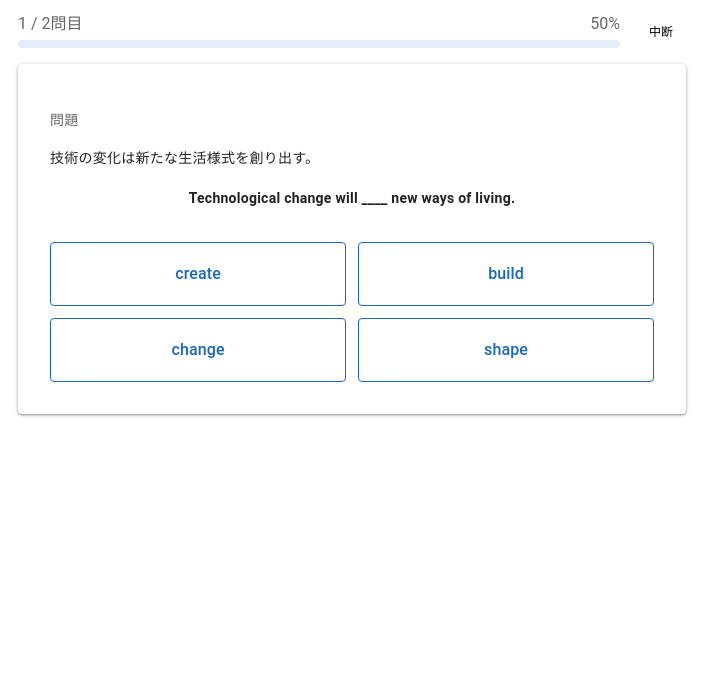
Test: ClozeView › 正しい選択肢を押すと正解が表示される
Click the button "create" at point(198, 274), box [50,242,346,306]
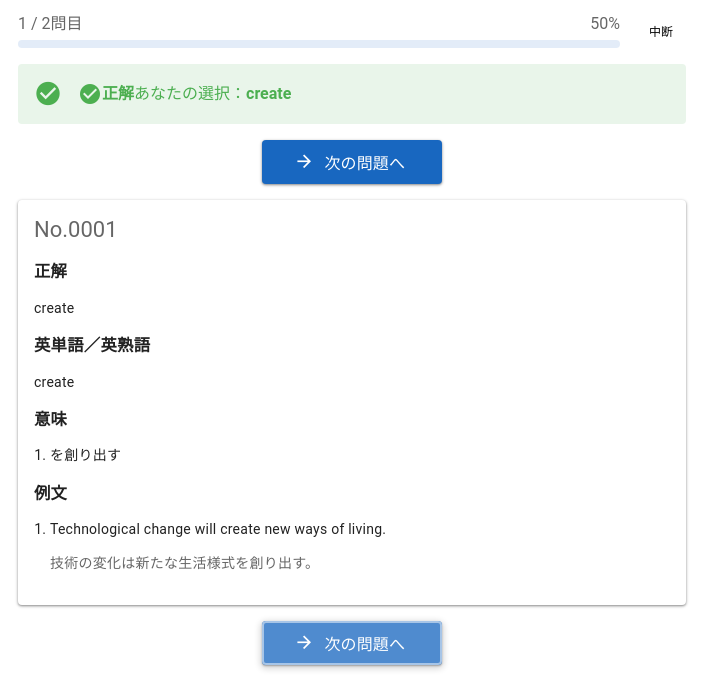
Now the text "正解" is shown, box [102,82,134,106]
